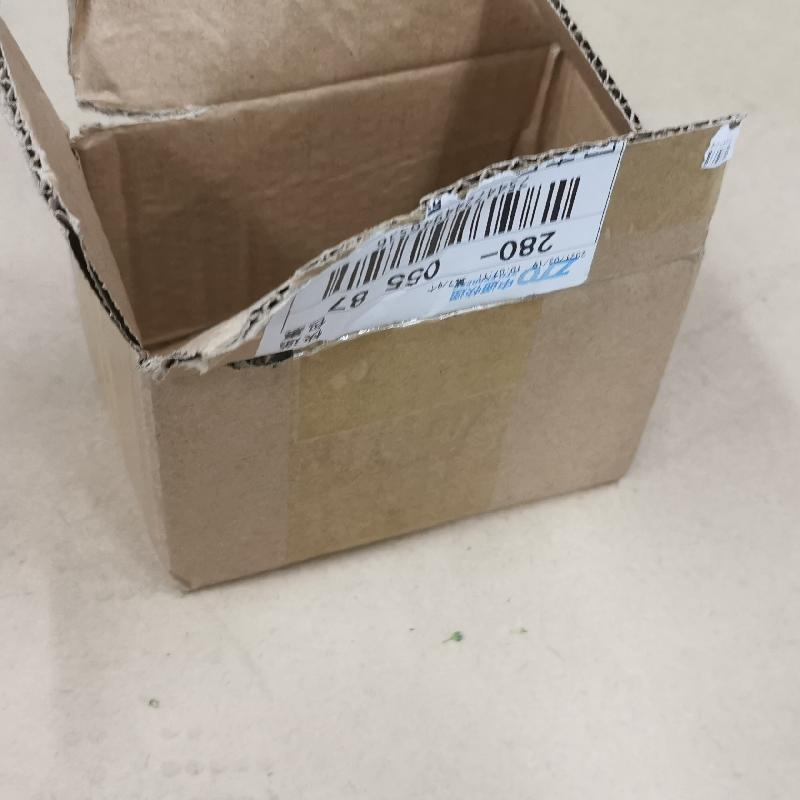boxes: (13, 4, 745, 596)
